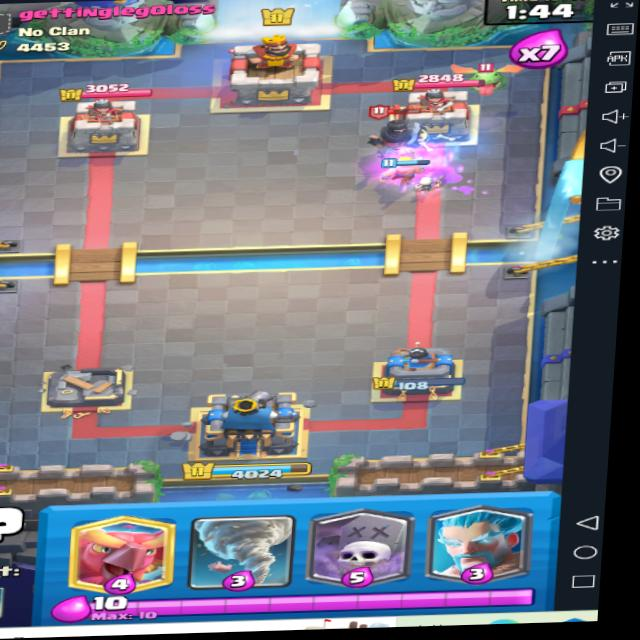baby-dragon: (457, 54, 524, 97)
dark-prince: (361, 102, 436, 165)
